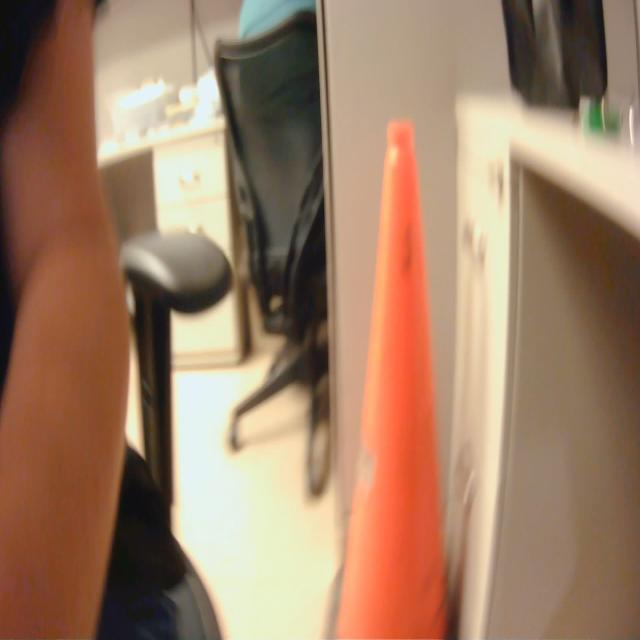traffic cone: (318, 111, 472, 640)
